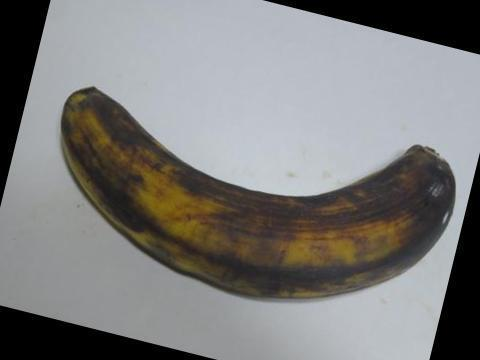overripe: (58, 78, 460, 303)
rotten: (382, 139, 458, 254)
